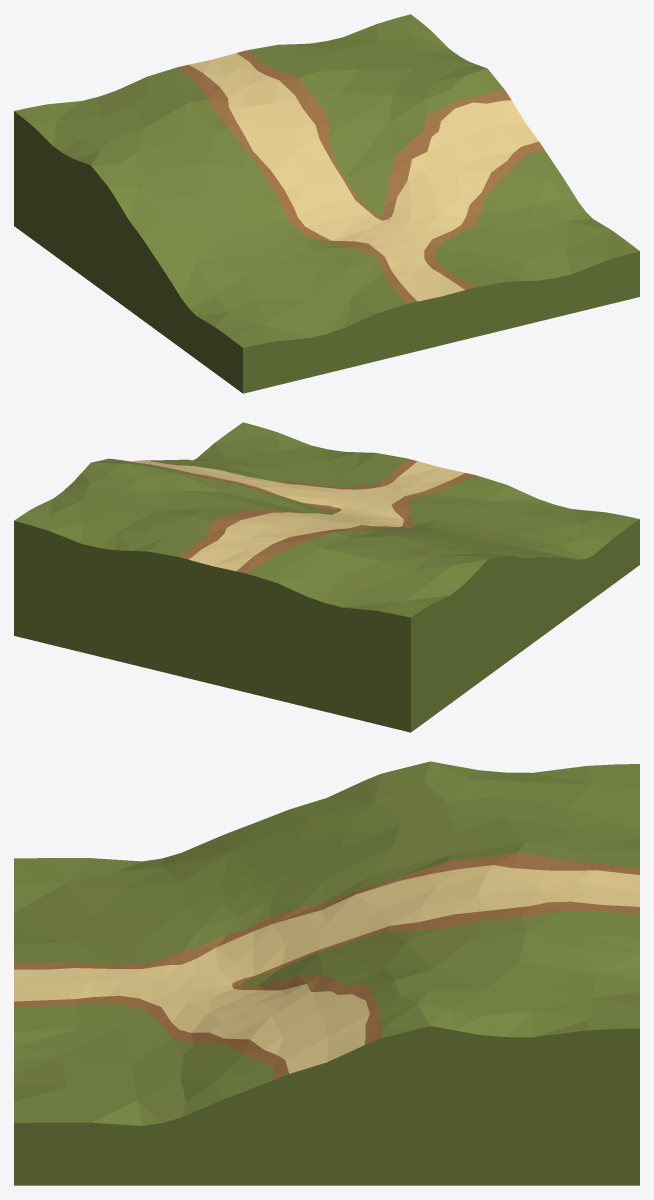
File: Terrian_Road_Int_Hill-03.fbx
3 renders of one model, top to bottom at view 1: azimuth 30°, elevation 25°; view 2: azimuth 150°, elevation 25°; view 3: azimuth 270°, elevation 25°, orthographic. The views are drawn at different scales.
Parts seen in each view (by area): view 1: Terrian_Road_Int_Hill-03; view 2: Terrian_Road_Int_Hill-03; view 3: Terrian_Road_Int_Hill-03.
Boxes of the visible parts, x1,y1,x2,y2 form: Terrian_Road_Int_Hill-03: (14, 14, 639, 393); Terrian_Road_Int_Hill-03: (14, 422, 639, 732); Terrian_Road_Int_Hill-03: (14, 761, 639, 1185).
Bounding box in the file's own units: 3600 × 1066 × 3600.
1 material, 1 textured.
